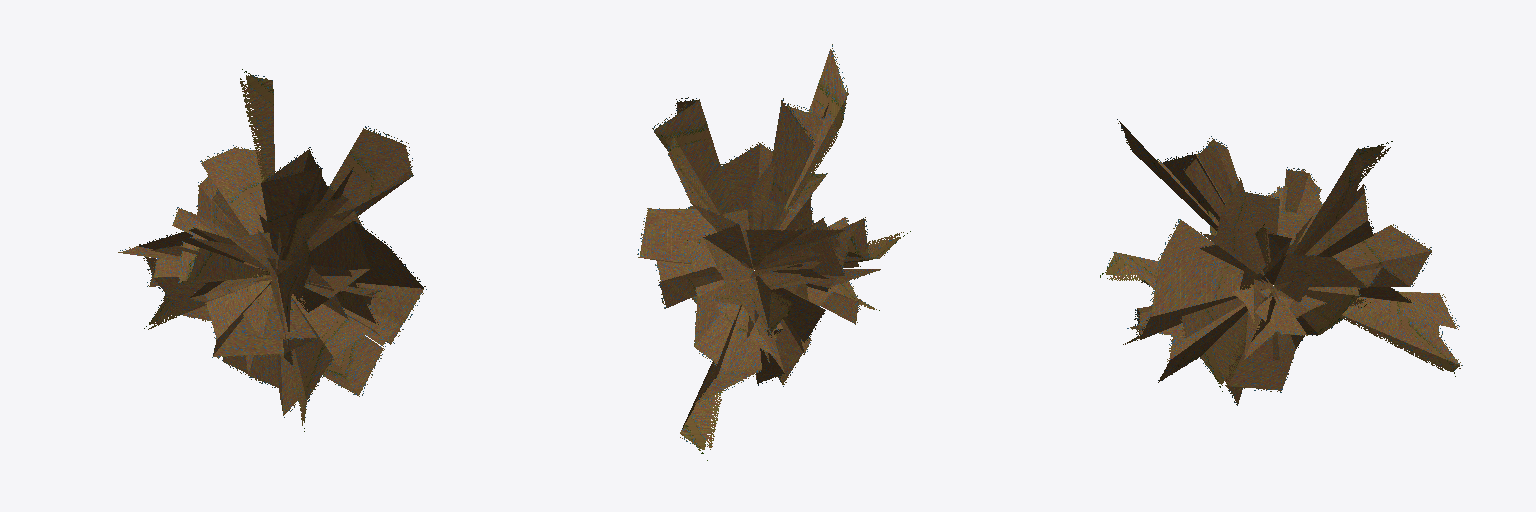
3 views of the same model, side by side, from view 1: azimuth 30°, elevation 25°; view 2: azimuth 150°, elevation 25°; view 3: azimuth 270°, elevation 25° (orthographic).
Size of the model in its own units: 8.94 by 9.8 by 11.03.
1 materials, 1 textured.